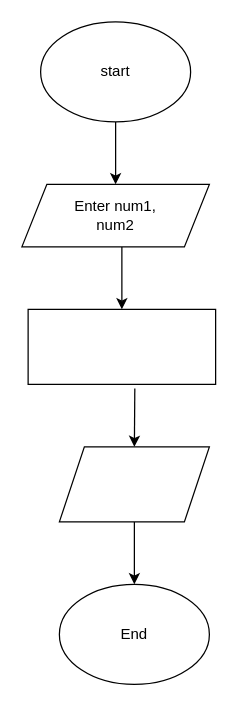
Some shapes in this 238 by 706 pixel diagram are drawn without their labels. Each missing label, with the centre of its shape:
"display sum" belongs at pixel 133 484.
"sum=num1+num2" belongs at pixel 121 346.
